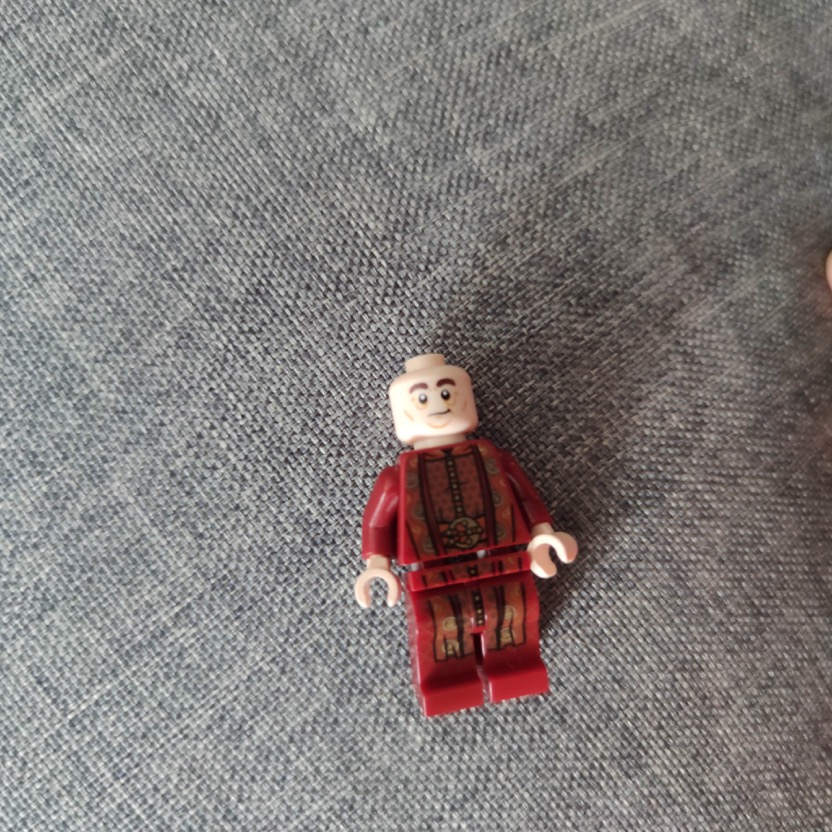lego: (355, 352, 580, 720)
